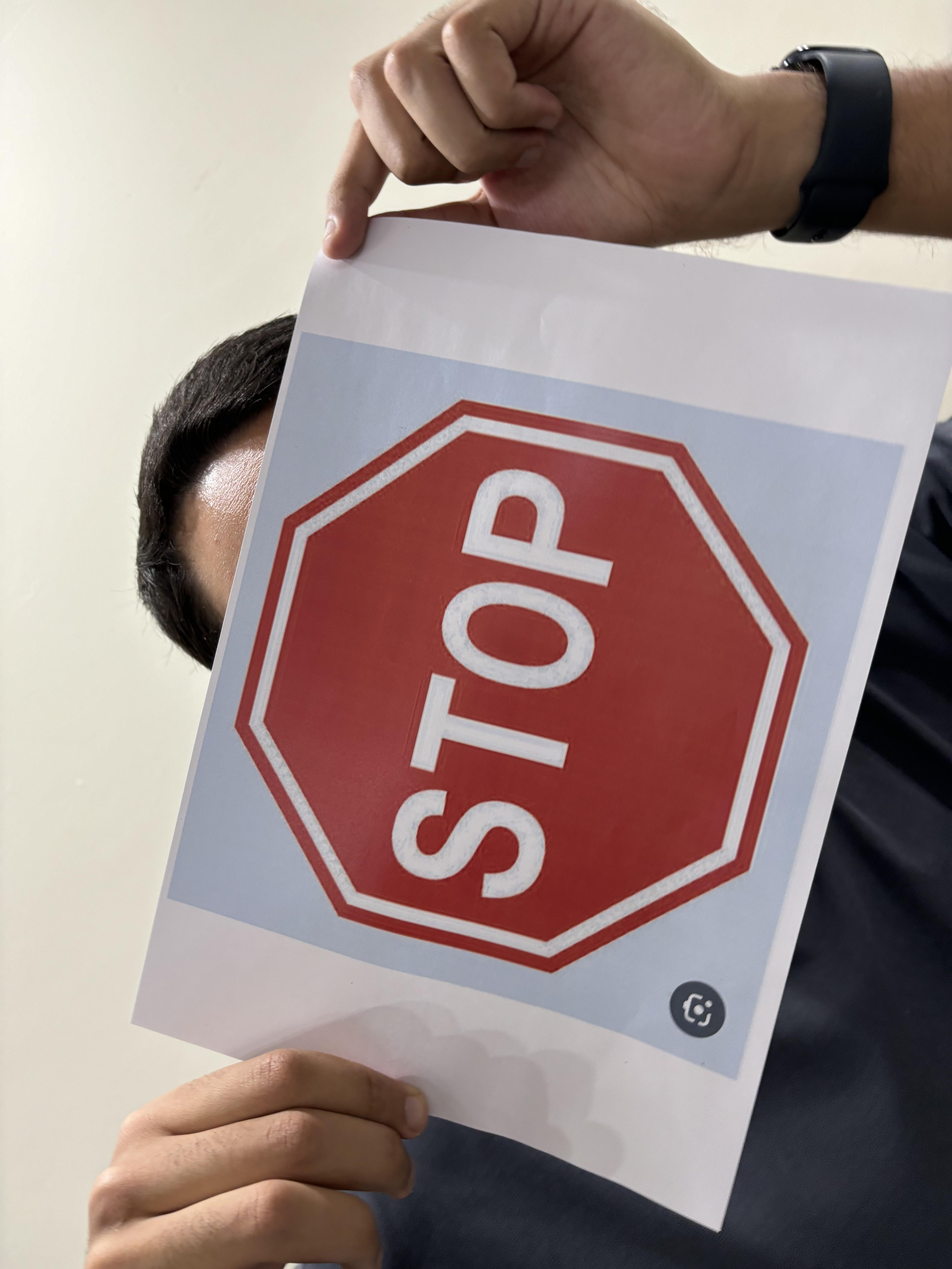Stop: (234, 394, 811, 973)
